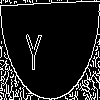Y: (25, 24, 42, 71)
